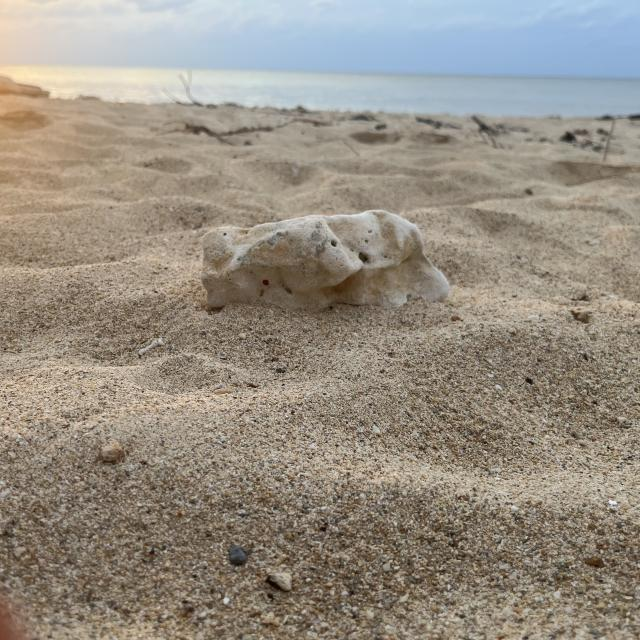rock: (181, 204, 494, 336)
